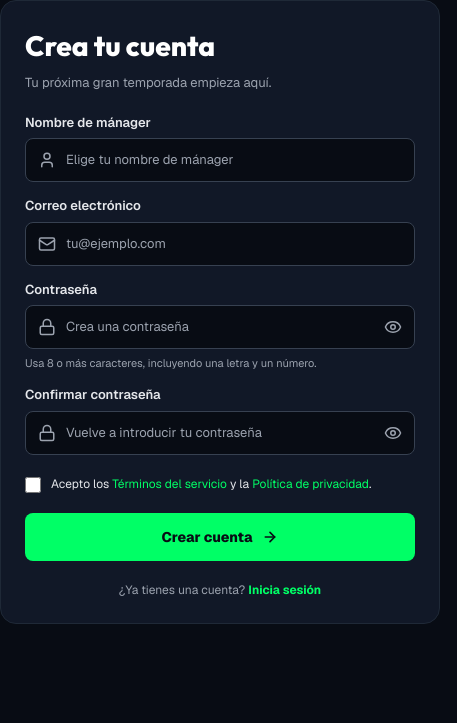
Scenario: RegisterPage › shows the field errors returned by the action
Step 1. Type "ApexManager" into the field labelled "Nombre de mánager" → (234, 160), box [66,150,402,170]
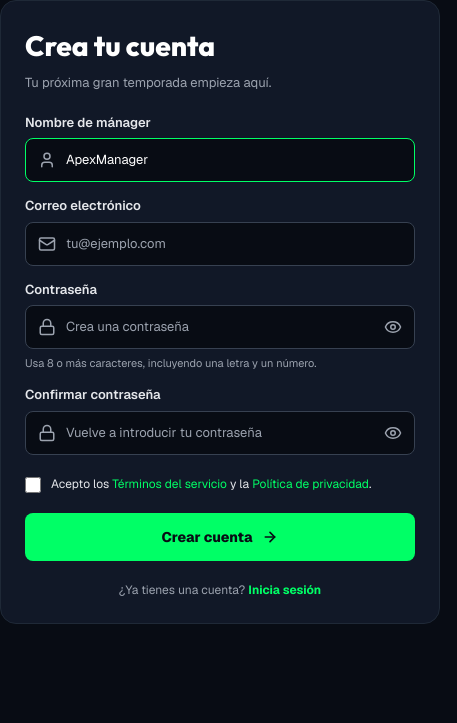
Step 2. Type "apex@example.com" into the field labelled "Correo electrónico" → (234, 244), box [66,234,402,253]
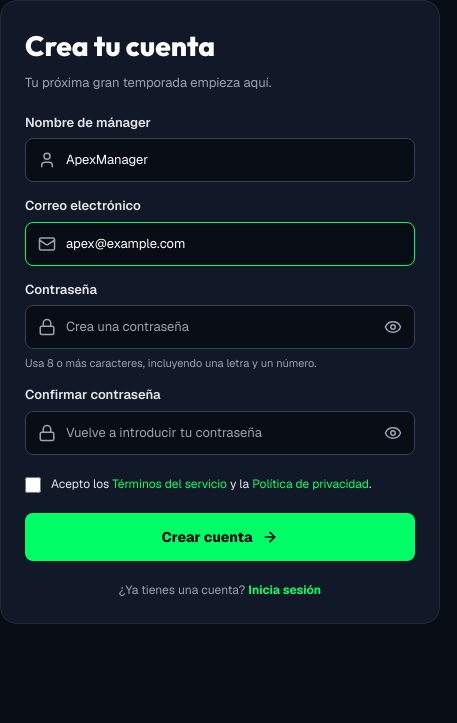
Step 3. Type "secret123" into the password field labelled "Contraseña" → (220, 327), box [66,317,374,337]
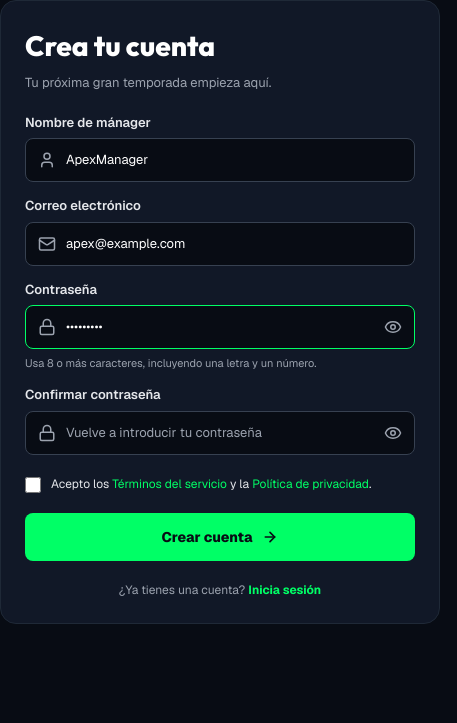
Step 4. Type "secret123" into the password field labelled "Confirmar contraseña" → (220, 433), box [66,423,374,442]
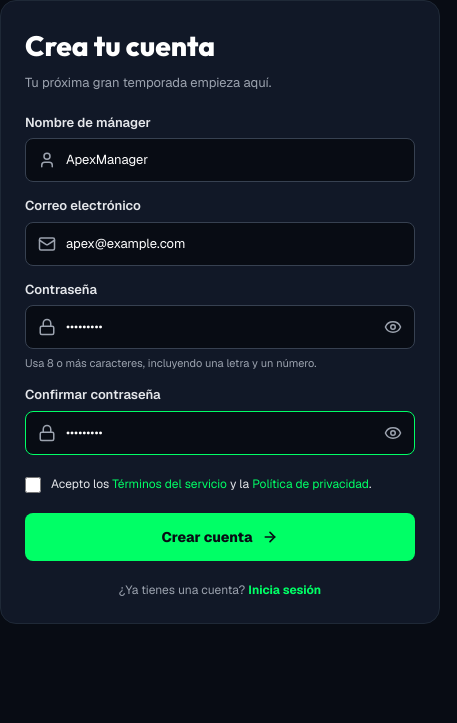
Step 5. Click the button "Crear cuenta" → (220, 536), box [25,512,415,560]
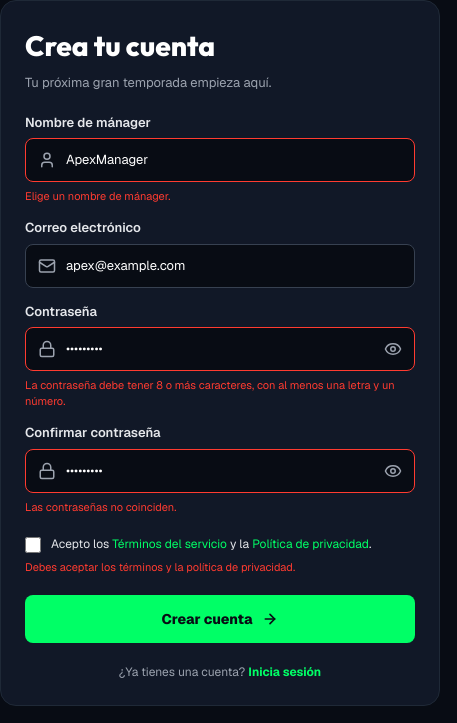
Now the text "Elige un nombre de mánager." is shown, box [25,189,170,203]
Now the text "La contraseña debe tener 8 o más caracteres, con al menos una letra y un número." is shown, box [25,377,415,409]
Now the text "Las contraseñas no coinciden." is shown, box [25,500,176,514]
